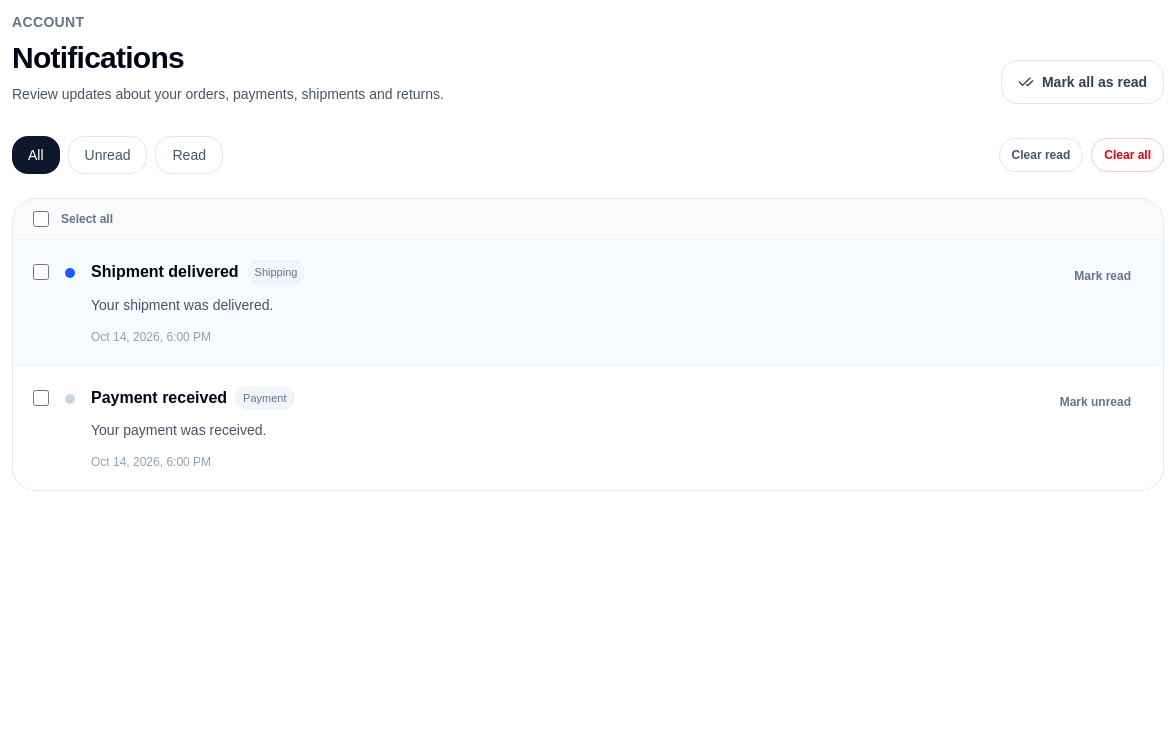
NotificationCenter › selects all visible notifications
Expected: the heading "Shipment delivered" is shown, [91, 260, 239, 284]
What coordinates should you click on to do the following:
click the checkbox named "Select all notifications"
I would click on:
 (41, 219)
Its box is [33, 211, 49, 227].
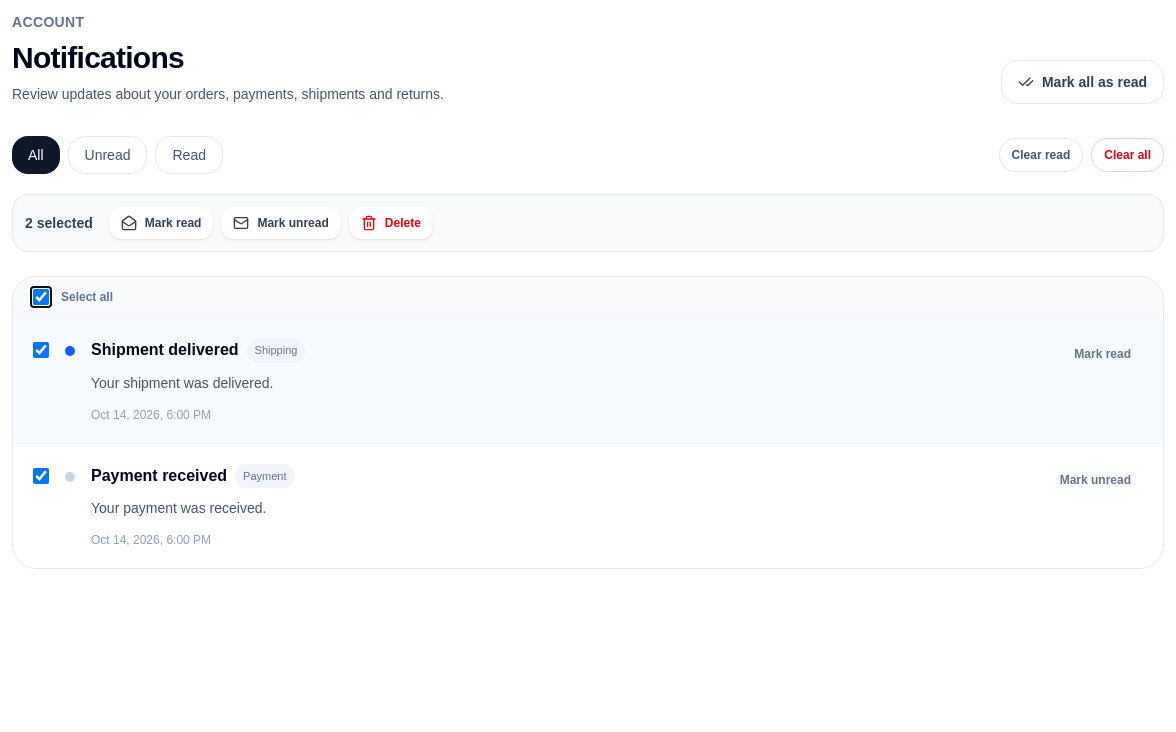
Expected: the text "2 selected" is shown, [25, 213, 93, 233]
Expected: the checkbox named "Select Shipment delivered" is checked, [33, 342, 49, 358]
Expected: the checkbox named "Select Payment received" is checked, [33, 468, 49, 484]
